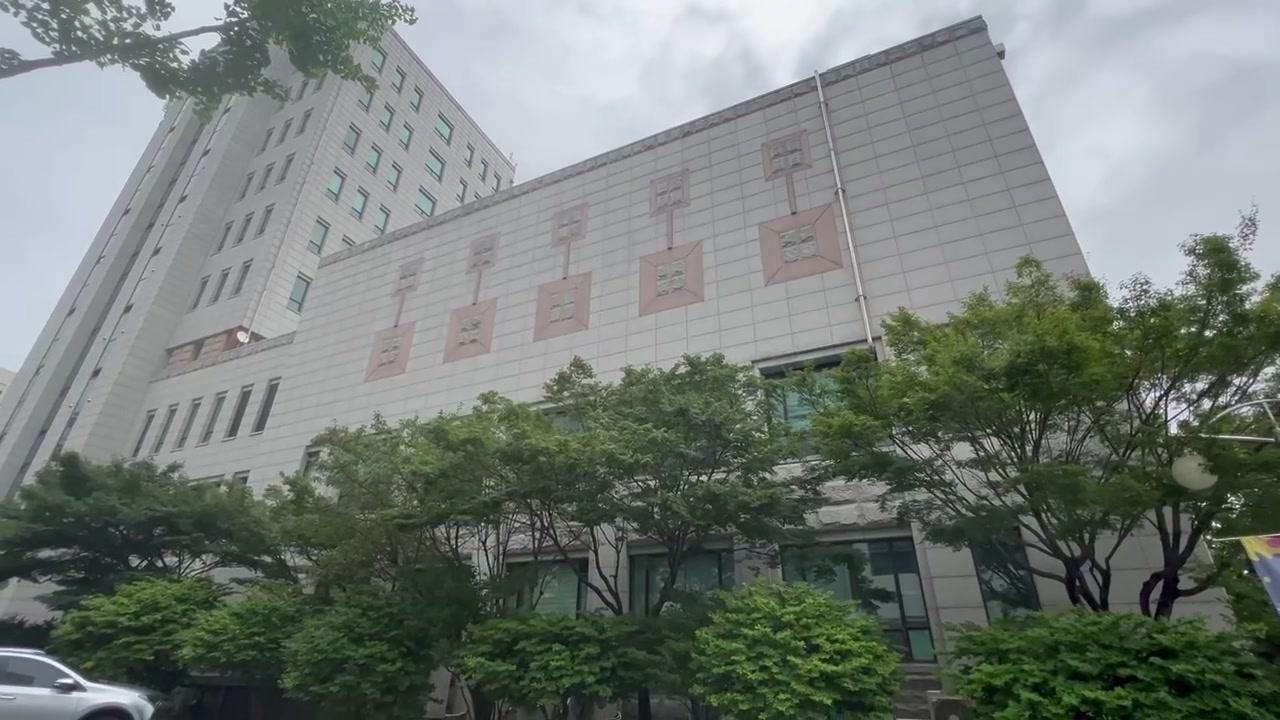building: (53, 71, 866, 423)
